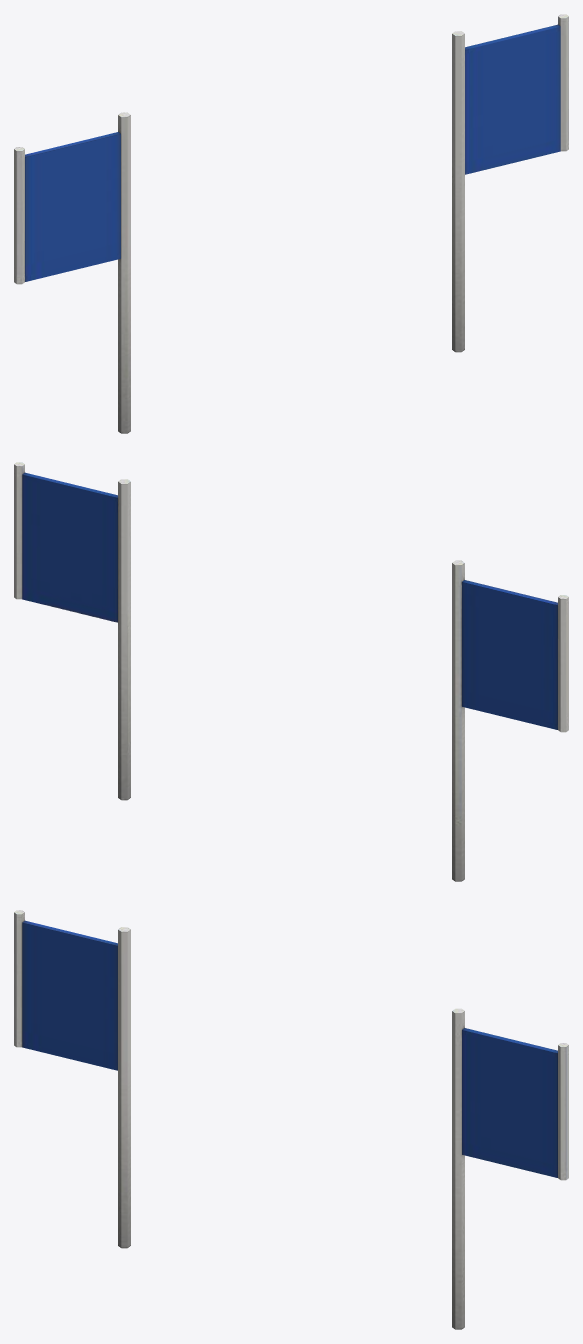
The model's file is puerta_azul.glb.
3 renders of one model, top to bottom at view 1: azimuth 30°, elevation 25°; view 2: azimuth 150°, elevation 25°; view 3: azimuth 330°, elevation 25°, orthographic.
Parts seen in each view (by area): view 1: puerta_azul; view 2: puerta_azul; view 3: puerta_azul.
Part boxes in pixels (x1,y1,x2,y2): puerta_azul: [14, 14, 568, 433]; puerta_azul: [14, 462, 568, 881]; puerta_azul: [14, 910, 568, 1329].
Size of the model in its own units: 3.47 by 1.9 by 0.07.
Materials: 1 (1 with a texture image).
